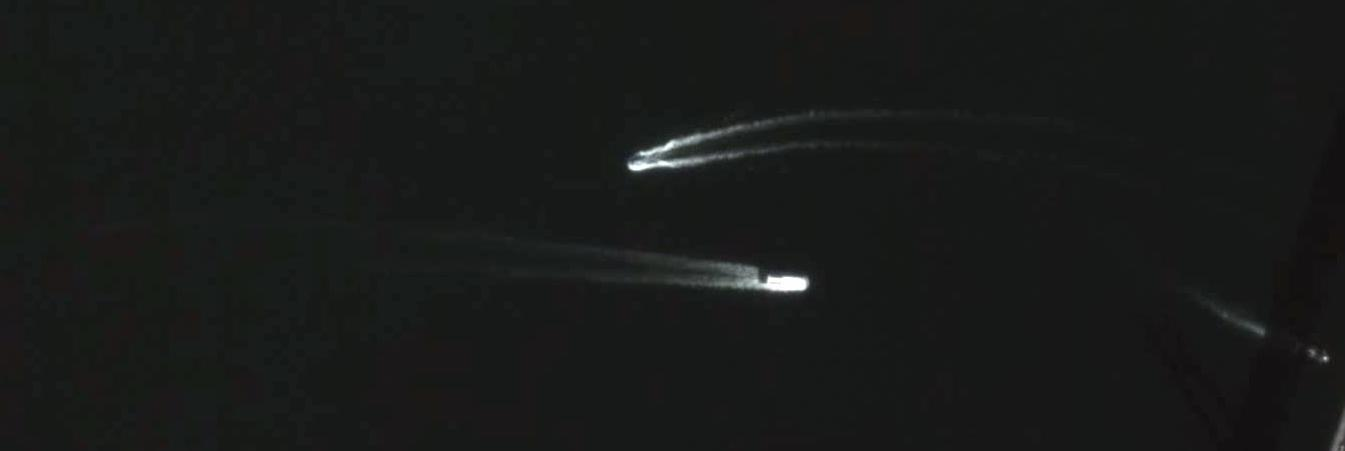person: (767, 274, 809, 292), (1300, 342, 1331, 366), (628, 156, 648, 165)
